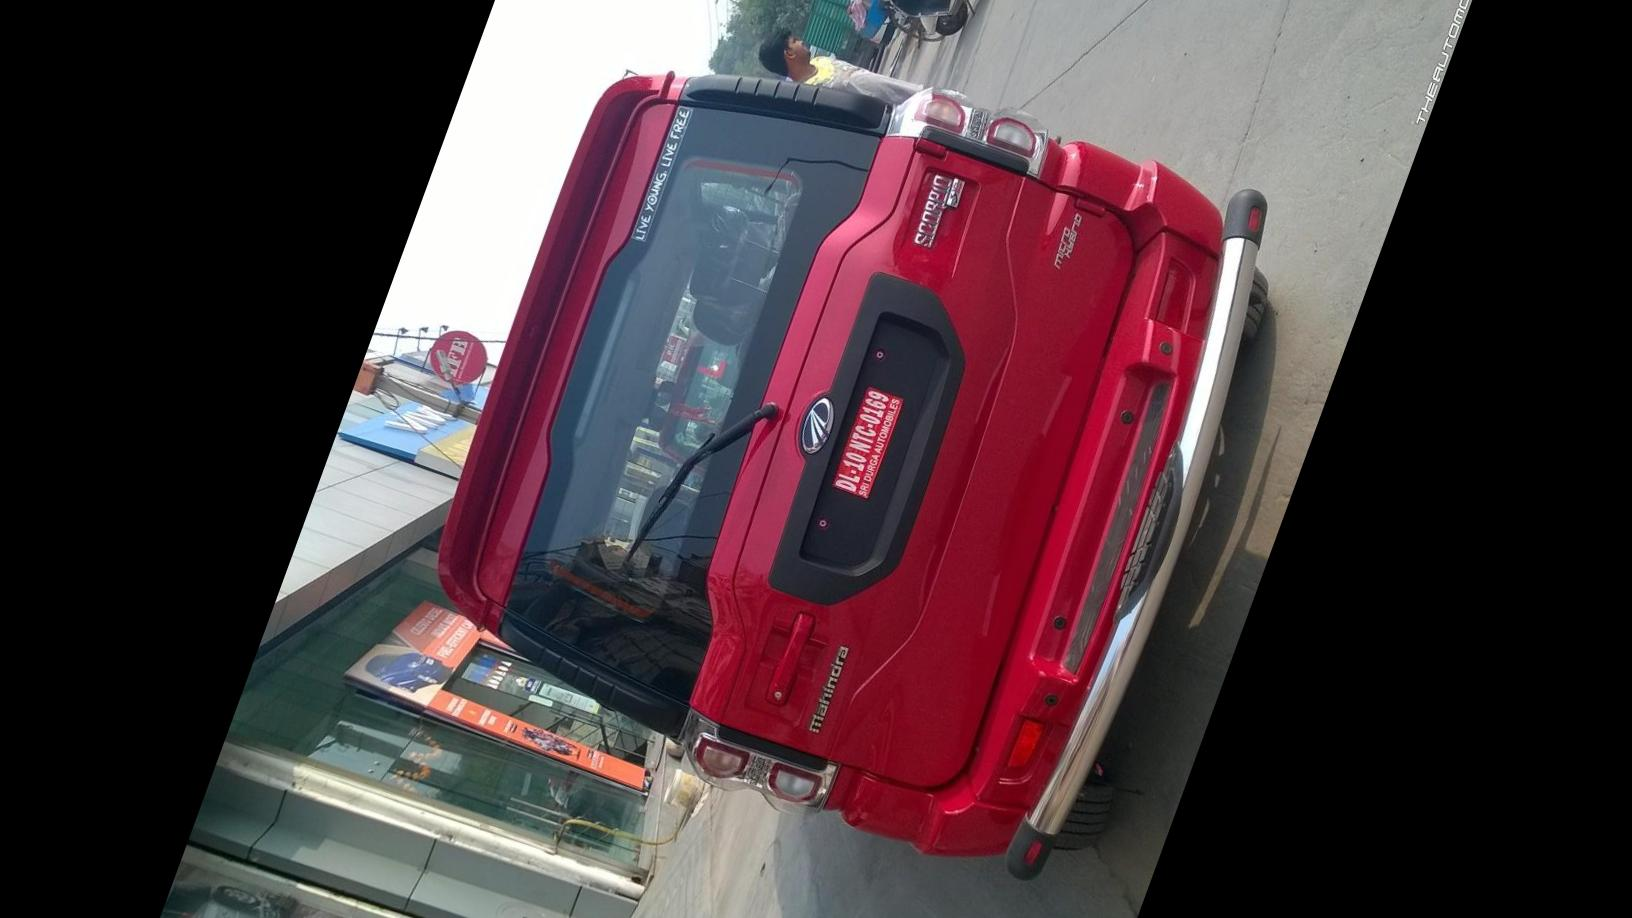plate: (832, 377, 909, 501)
